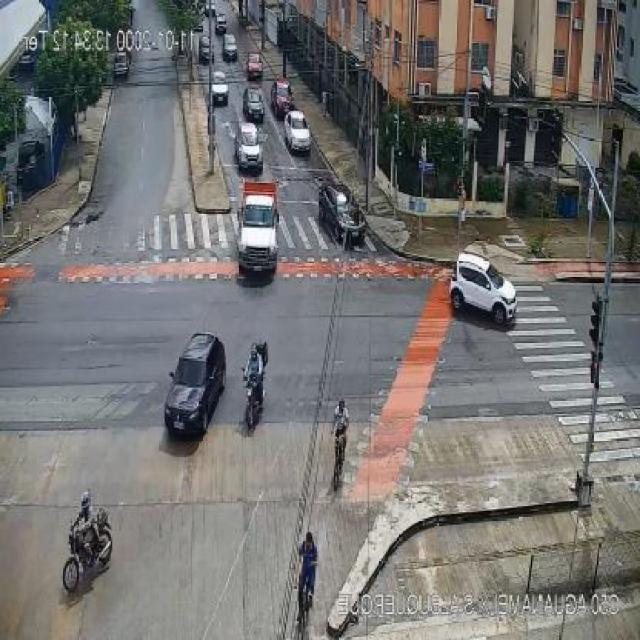Car: (160, 332, 232, 437), (449, 250, 519, 328), (317, 183, 367, 243), (235, 124, 264, 170), (284, 110, 312, 152), (269, 76, 292, 117), (243, 85, 264, 123), (244, 52, 266, 79)
Cycle: (56, 491, 114, 596), (240, 335, 274, 429), (296, 531, 322, 617), (330, 396, 356, 466)
Truck: (238, 179, 280, 277)
